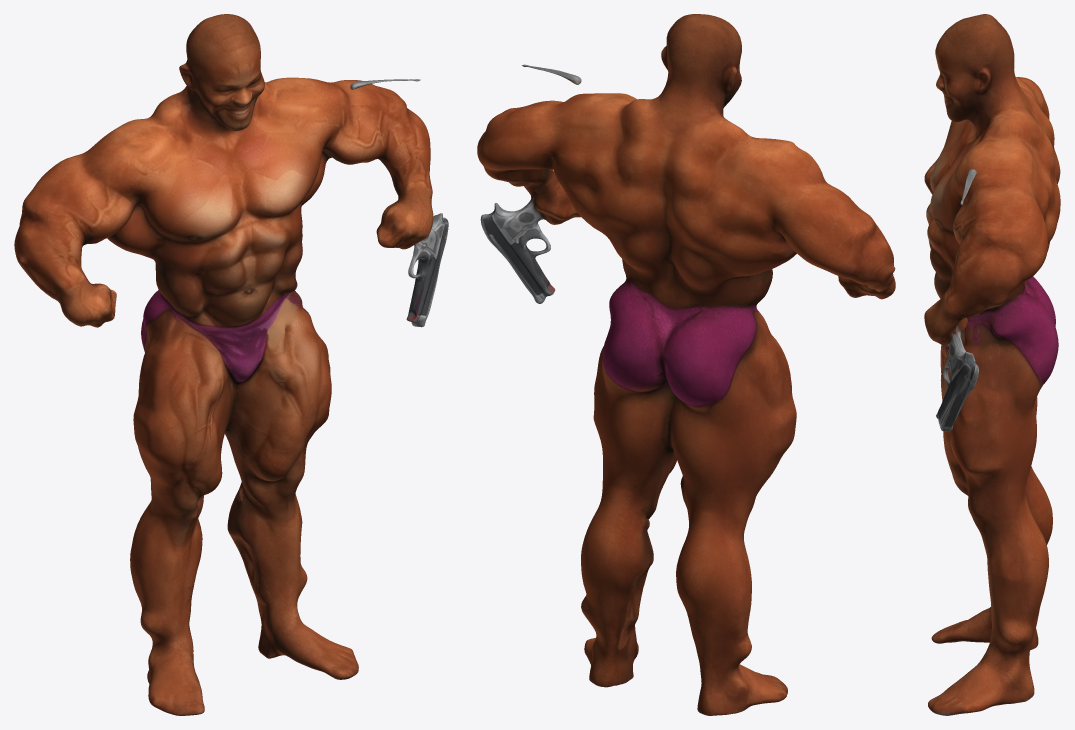
File: Player.glb
3 views of the same model, side by side, from view 1: azimuth 30°, elevation 25°; view 2: azimuth 150°, elevation 25°; view 3: azimuth 270°, elevation 25° (orthographic). The views are drawn at different scales.
Visible parts, largest first — view 1: mesh_node; view 2: mesh_node; view 3: mesh_node.
Part boxes in pixels (x1,y1,x2,y2): mesh_node: (14,14,448,715); mesh_node: (477,14,895,715); mesh_node: (924,14,1060,715).
Size of the model in its own units: 7.06 by 10.74 by 2.05.
Materials: 1 (1 with a texture image).
